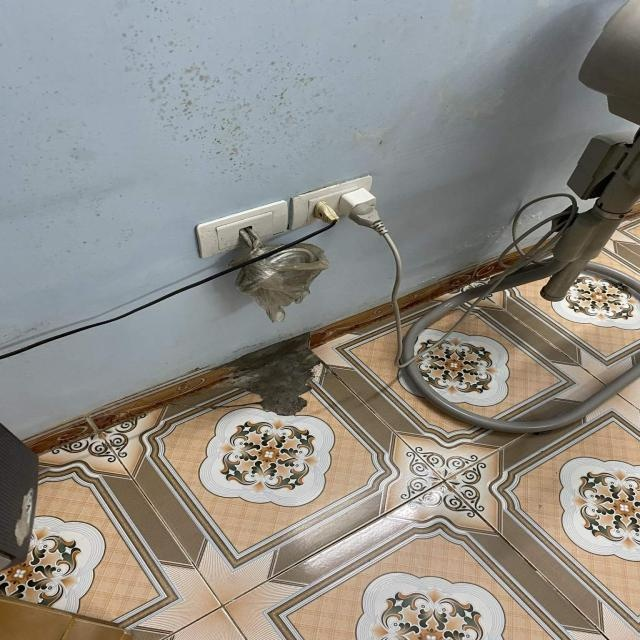outlet: (290, 174, 374, 230)
